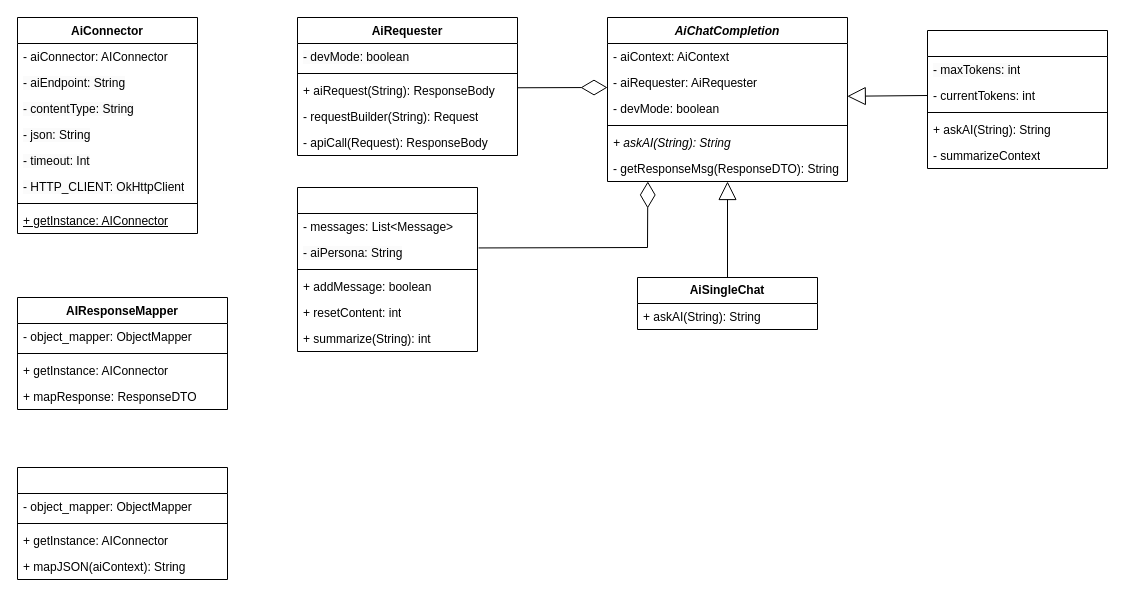
This 1125x600 diagram has some shape labels left out. Here are the shapes that lost their labels. From the top down, the box of each, then its label:
(926, 30, 1108, 168): AIConversationChat
(296, 186, 478, 352): AiContext
(16, 466, 228, 580): JavaToJSONMapper
